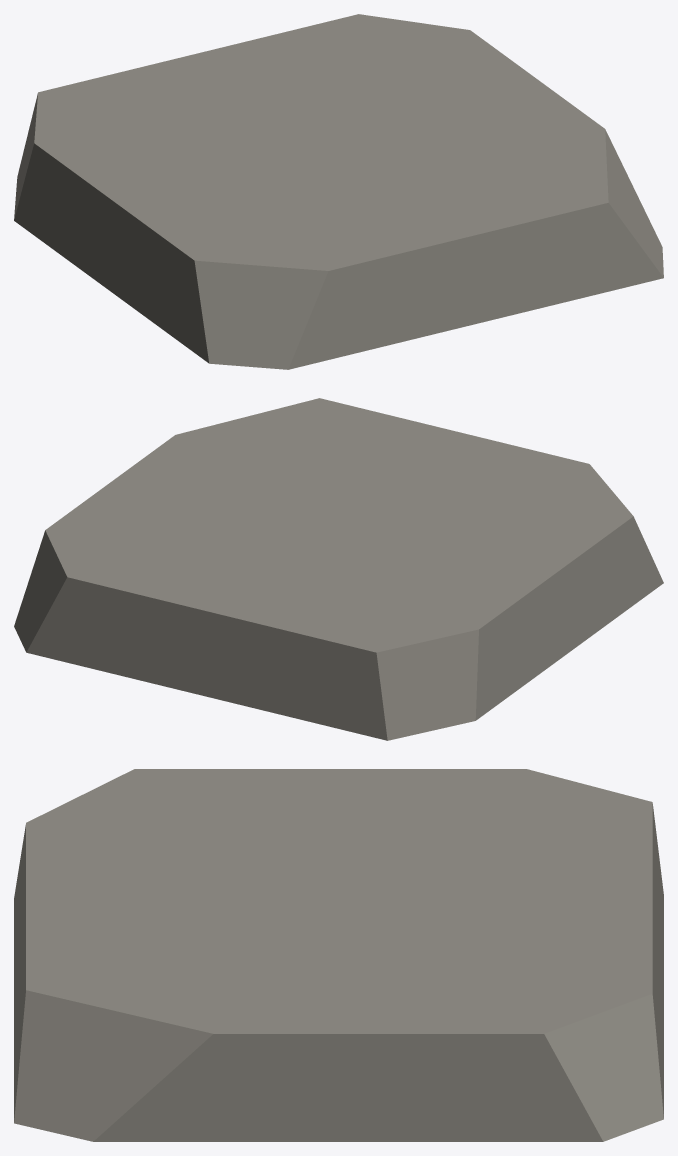
The model's file is Rock_Tile_m_09.fbx.
The picture shows the model from 3 angles, top to bottom: view 1: azimuth 30°, elevation 25°; view 2: azimuth 150°, elevation 25°; view 3: azimuth 270°, elevation 25°; orthographic projection. The views are drawn at different scales.
Parts seen in each view (by area): view 1: Rock_Tile_m_09; view 2: Rock_Tile_m_09; view 3: Rock_Tile_m_09.
Boxes of the visible parts, bbox=[...] form: Rock_Tile_m_09: bbox=[14, 14, 663, 369]; Rock_Tile_m_09: bbox=[14, 398, 663, 740]; Rock_Tile_m_09: bbox=[14, 769, 663, 1141].
Size of the model in its own units: 40 by 7 by 40.
